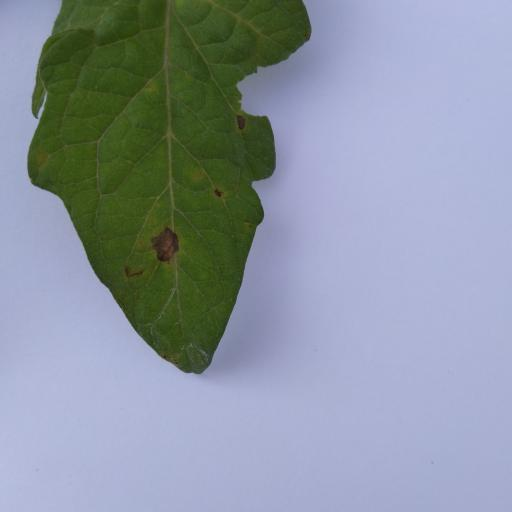disease_tomato: (26, 0, 310, 374)
